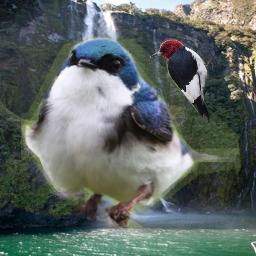Swallow: (21, 36, 241, 229)
Woodpecker: (147, 38, 215, 123)
